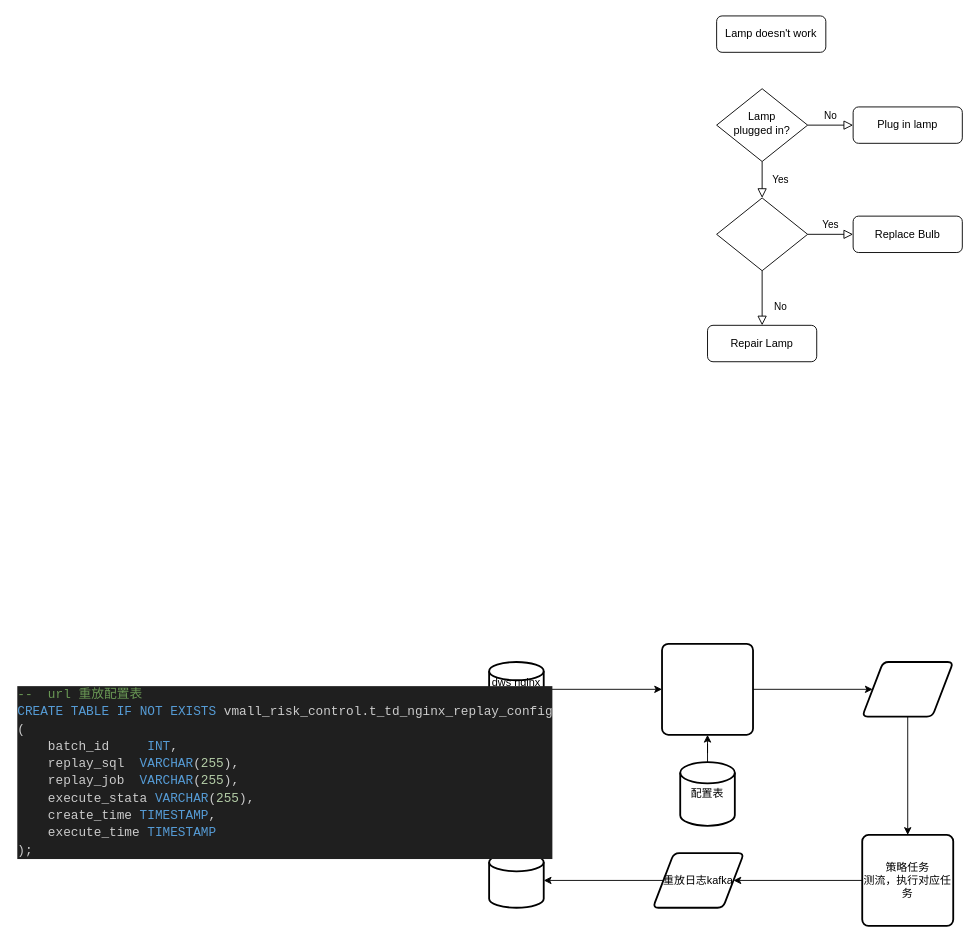
Image size: 978x943. Some labels were removed from this diagram. The shapes that lost their labels are listed below. From the top down, each one's centre as x and y in pixels, then its label:
(762,234): Bulb burned out?
(707,688): 处理数据，并且写入kafka
(907,689): 重放kafka
(516,880): dws
